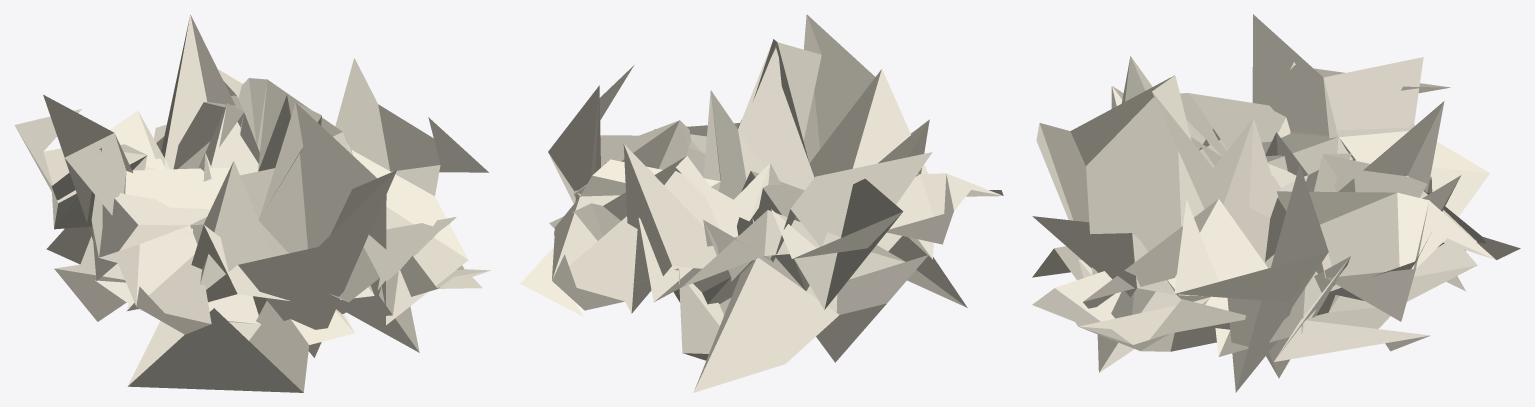
Rendered from paper.fbx.
3 views of the same model, side by side, from view 1: azimuth 30°, elevation 25°; view 2: azimuth 150°, elevation 25°; view 3: azimuth 270°, elevation 25° (orthographic). The views are drawn at different scales.
Visible parts, largest first — view 1: Paper; view 2: Paper; view 3: Paper.
Part boxes in pixels (x1=…): Paper: x1=14, y1=14, x2=490, y2=392; Paper: x1=520, y1=14, x2=1003, y2=392; Paper: x1=1032, y1=14, x2=1520, y2=392.
Size of the model in its own units: 27.36 by 25.91 by 16.16.
